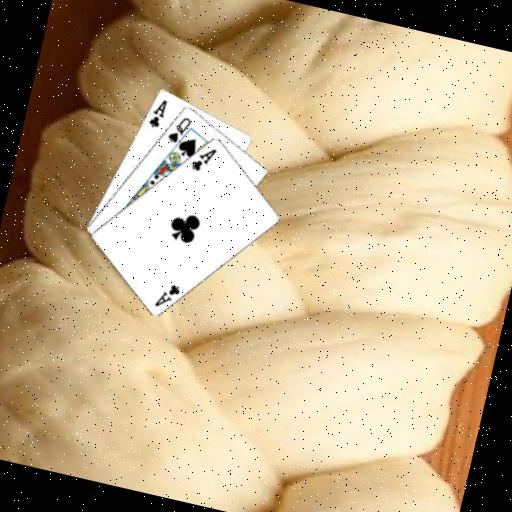AC: (187, 141, 220, 176), (151, 277, 184, 312), (145, 94, 170, 131)
QS: (163, 111, 194, 148)
